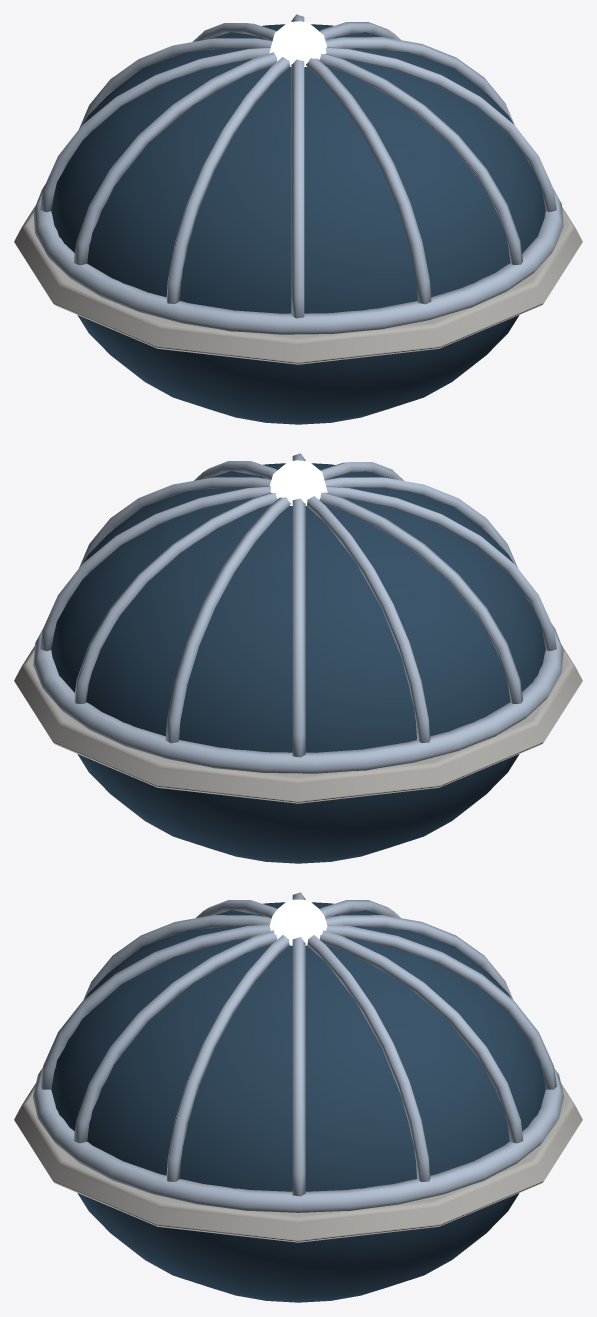
The model's file is agridome.glb.
The picture shows the model from 3 angles, top to bottom: view 1: azimuth 30°, elevation 25°; view 2: azimuth 150°, elevation 25°; view 3: azimuth 270°, elevation 25°; orthographic projection.
Parts seen in each view (by area): view 1: agridome; view 2: agridome; view 3: agridome.
Part boxes in pixels (x1,y1,x2,y2): agridome: [14, 14, 582, 424]; agridome: [14, 453, 582, 863]; agridome: [14, 892, 582, 1302].
Size of the model in its own units: 0.953 by 0.685 by 0.953.
